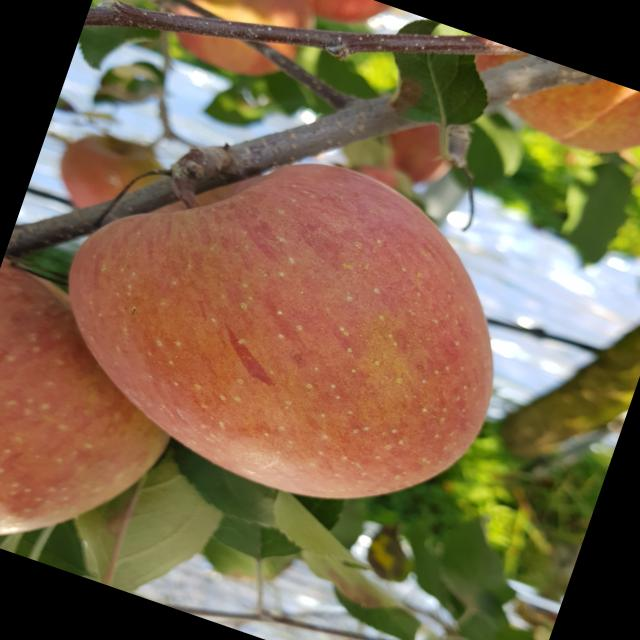fresh: (1, 75, 574, 562)
